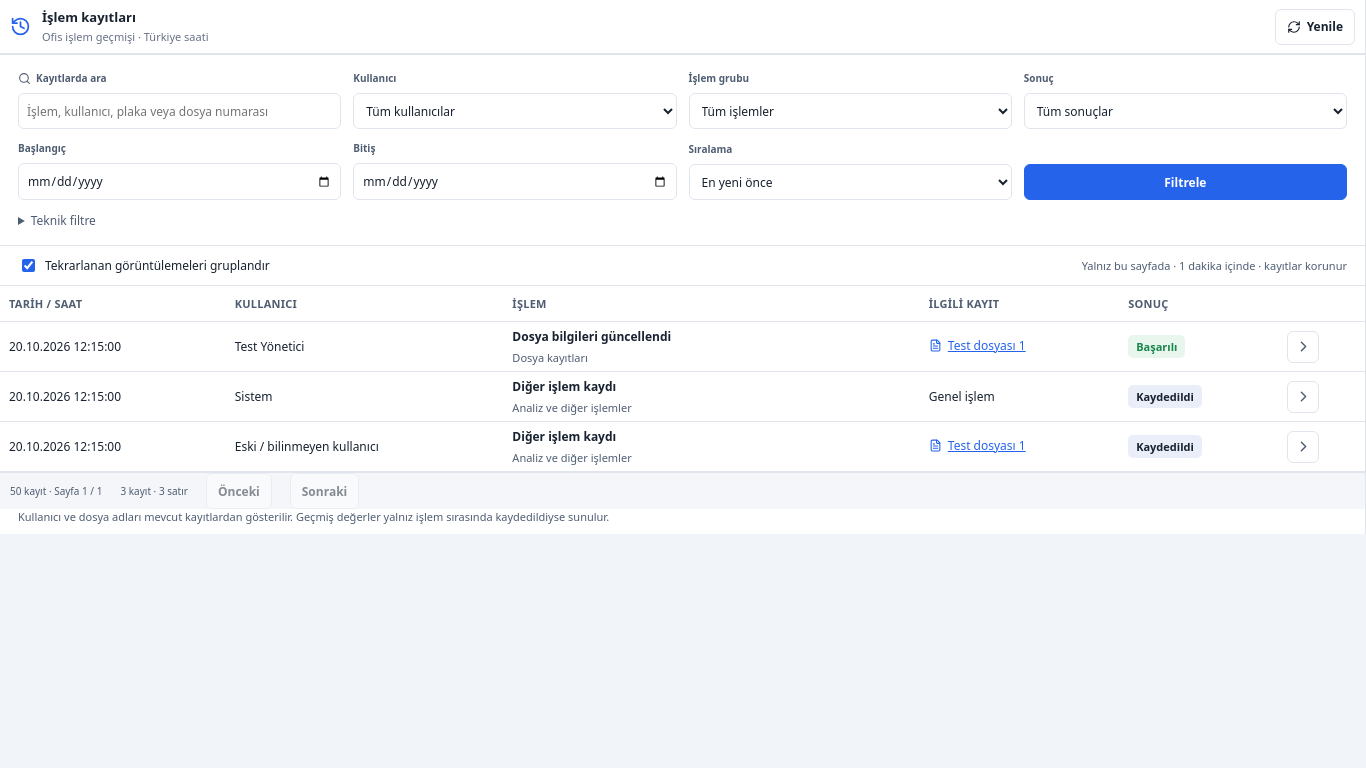
Test: AuditLog › renders validated events with actor names, system fallback, Turkey time and details
This screenshot has width=1366, height=768.
expect the text "Test Yönetici" is shown: met, box [235, 338, 304, 355]
What coordinates should you click on to do the following:
click the button named "Dosya bilgileri güncellendi ayrıntıları"
I would click on:
 (1303, 346)
Its box is [1287, 330, 1319, 362].
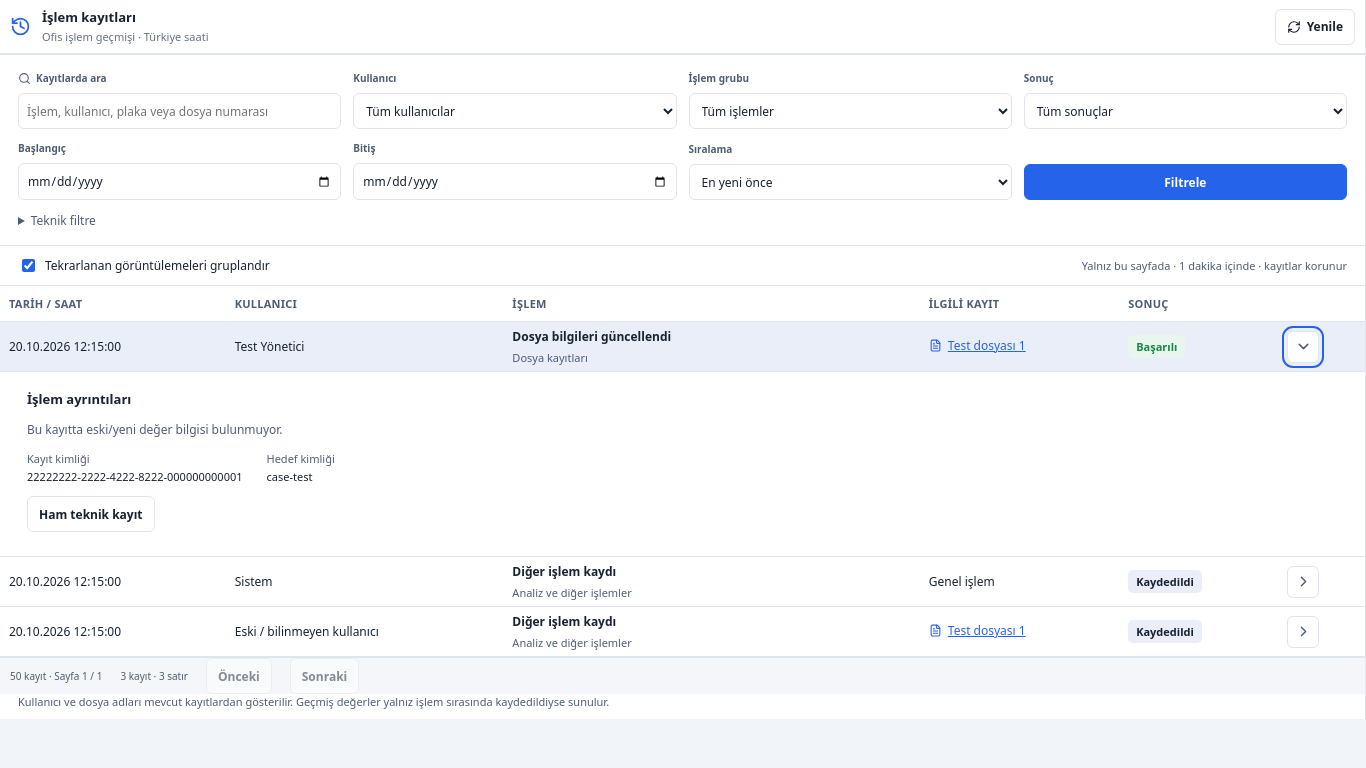
What coordinates should you click on to do the following:
click the button "Ham teknik kayıt"
I would click on:
 (91, 514)
Its box is [27, 496, 155, 532].
(page scrolled)
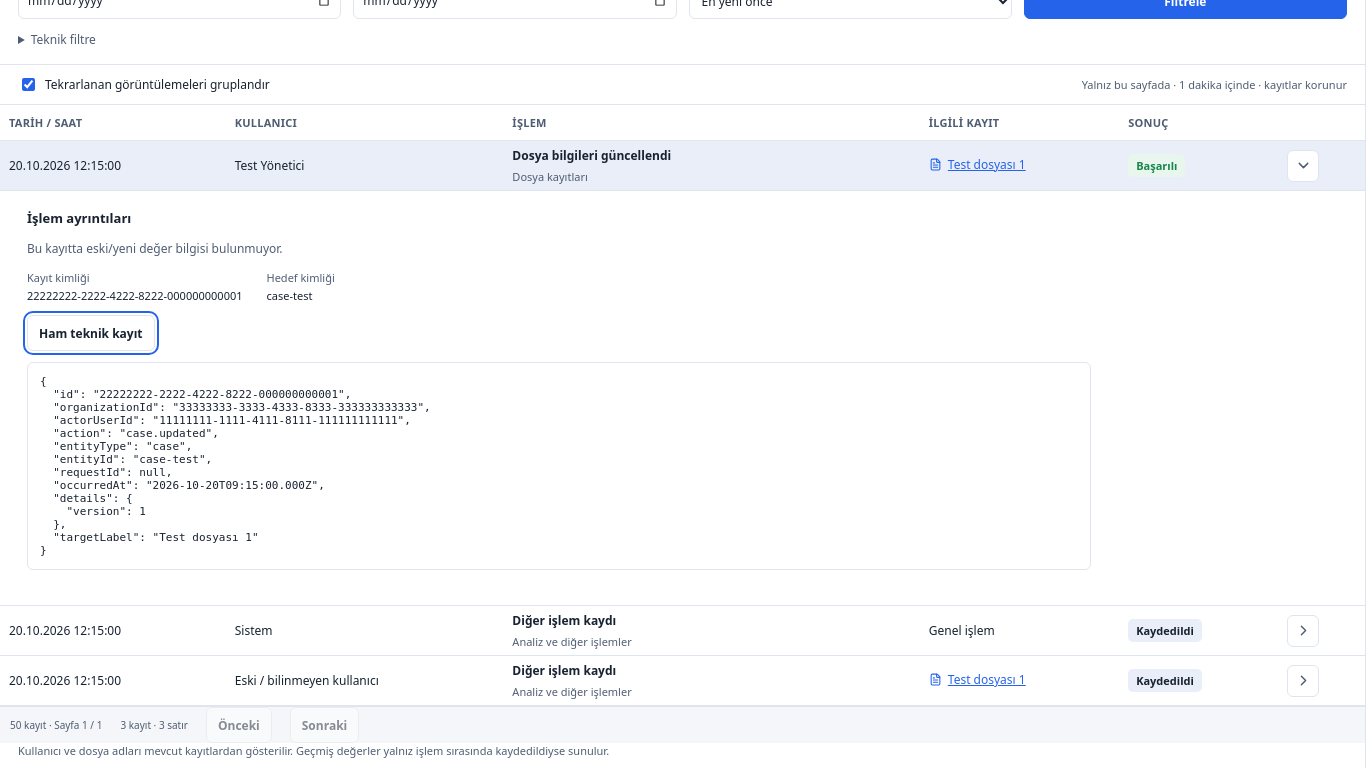
expect the text "Sistem" is shown: met, box [235, 622, 272, 639]
expect the text "\"version\": 1" is shown: met, box [40, 375, 431, 557]
